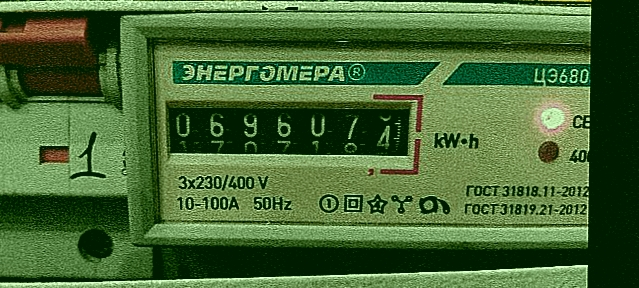0: (172, 110, 194, 139), (310, 109, 328, 139), (209, 111, 226, 137)
4: (375, 123, 393, 151)
6: (275, 109, 293, 139)
7: (342, 111, 361, 140)
9: (242, 110, 260, 139)
screen: (151, 87, 426, 175)
